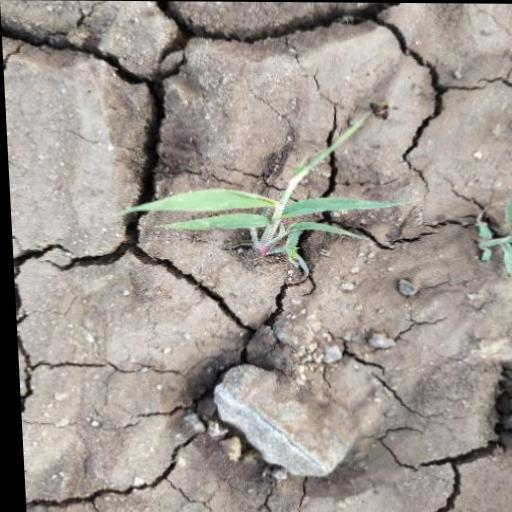weed: (98, 88, 418, 303)
